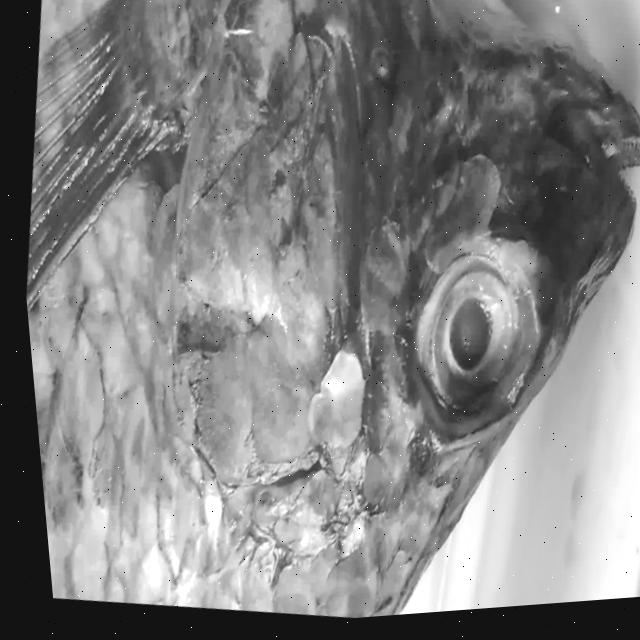Non-Fresh: (0, 0, 446, 630), (373, 221, 550, 466)
